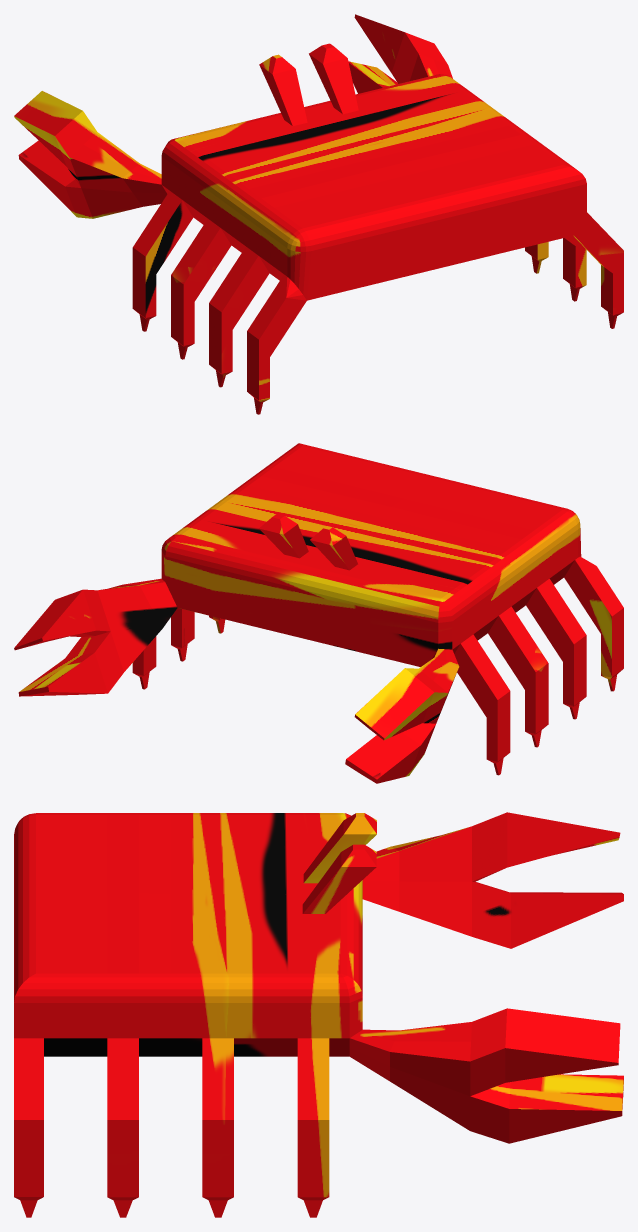
Rendered from crab2.fbx.
3 renders of one model, top to bottom at view 1: azimuth 30°, elevation 25°; view 2: azimuth 150°, elevation 25°; view 3: azimuth 270°, elevation 25°, orthographic. The views are drawn at different scales.
Parts seen in each view (by area): view 1: Cube; view 2: Cube; view 3: Cube.
Boxes of the visible parts, <box> form: Cube: <box>14,14,623,414</box>; Cube: <box>14,443,623,783</box>; Cube: <box>14,812,623,1217</box>.
Size of the model in its own units: 314 by 177 by 350.
